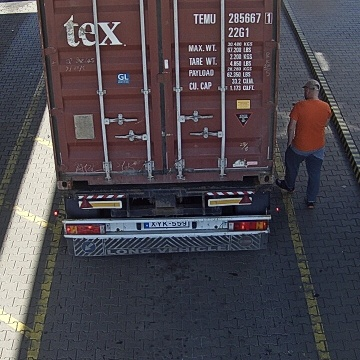serial_id: (193, 12, 272, 24)
